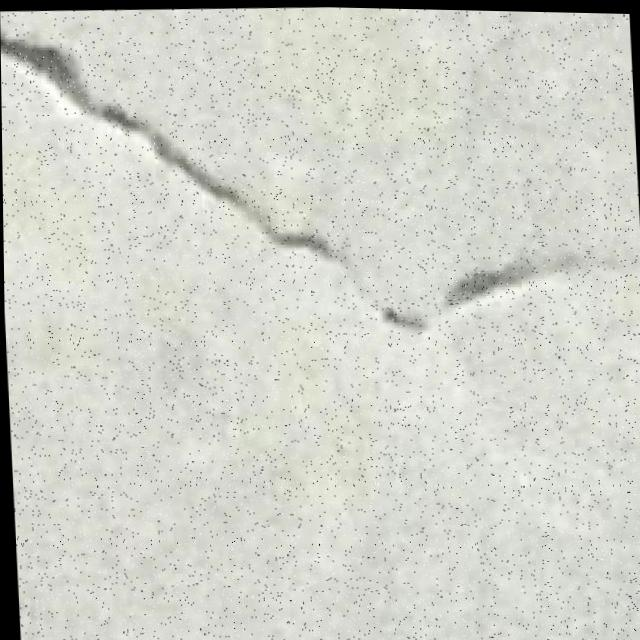Crack: (0, 0, 621, 360)
